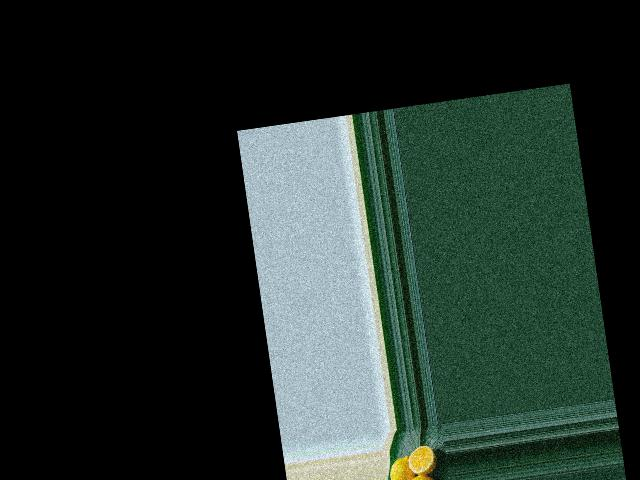lemon: (387, 449, 419, 480)
